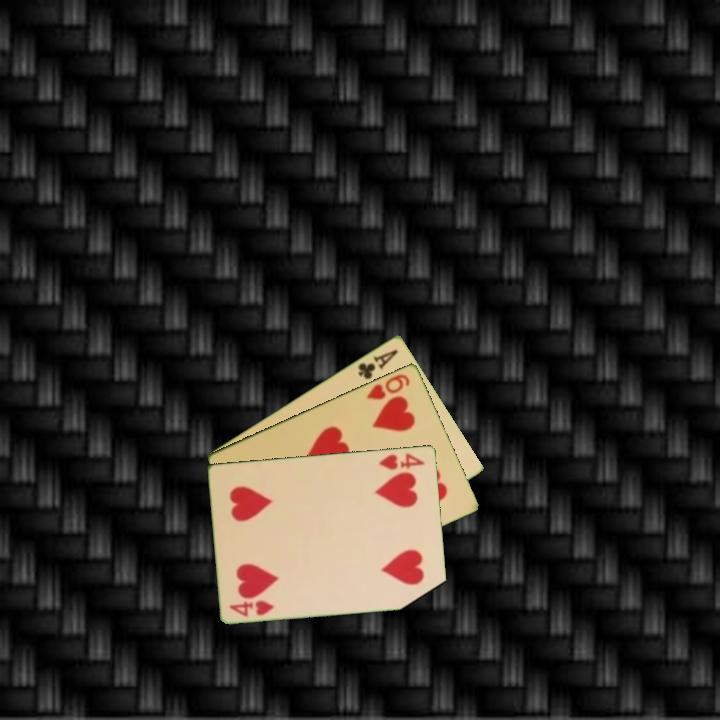4h: (226, 596, 277, 619), (375, 450, 428, 472)
6h: (363, 370, 413, 402)
Ac: (354, 345, 401, 382)
